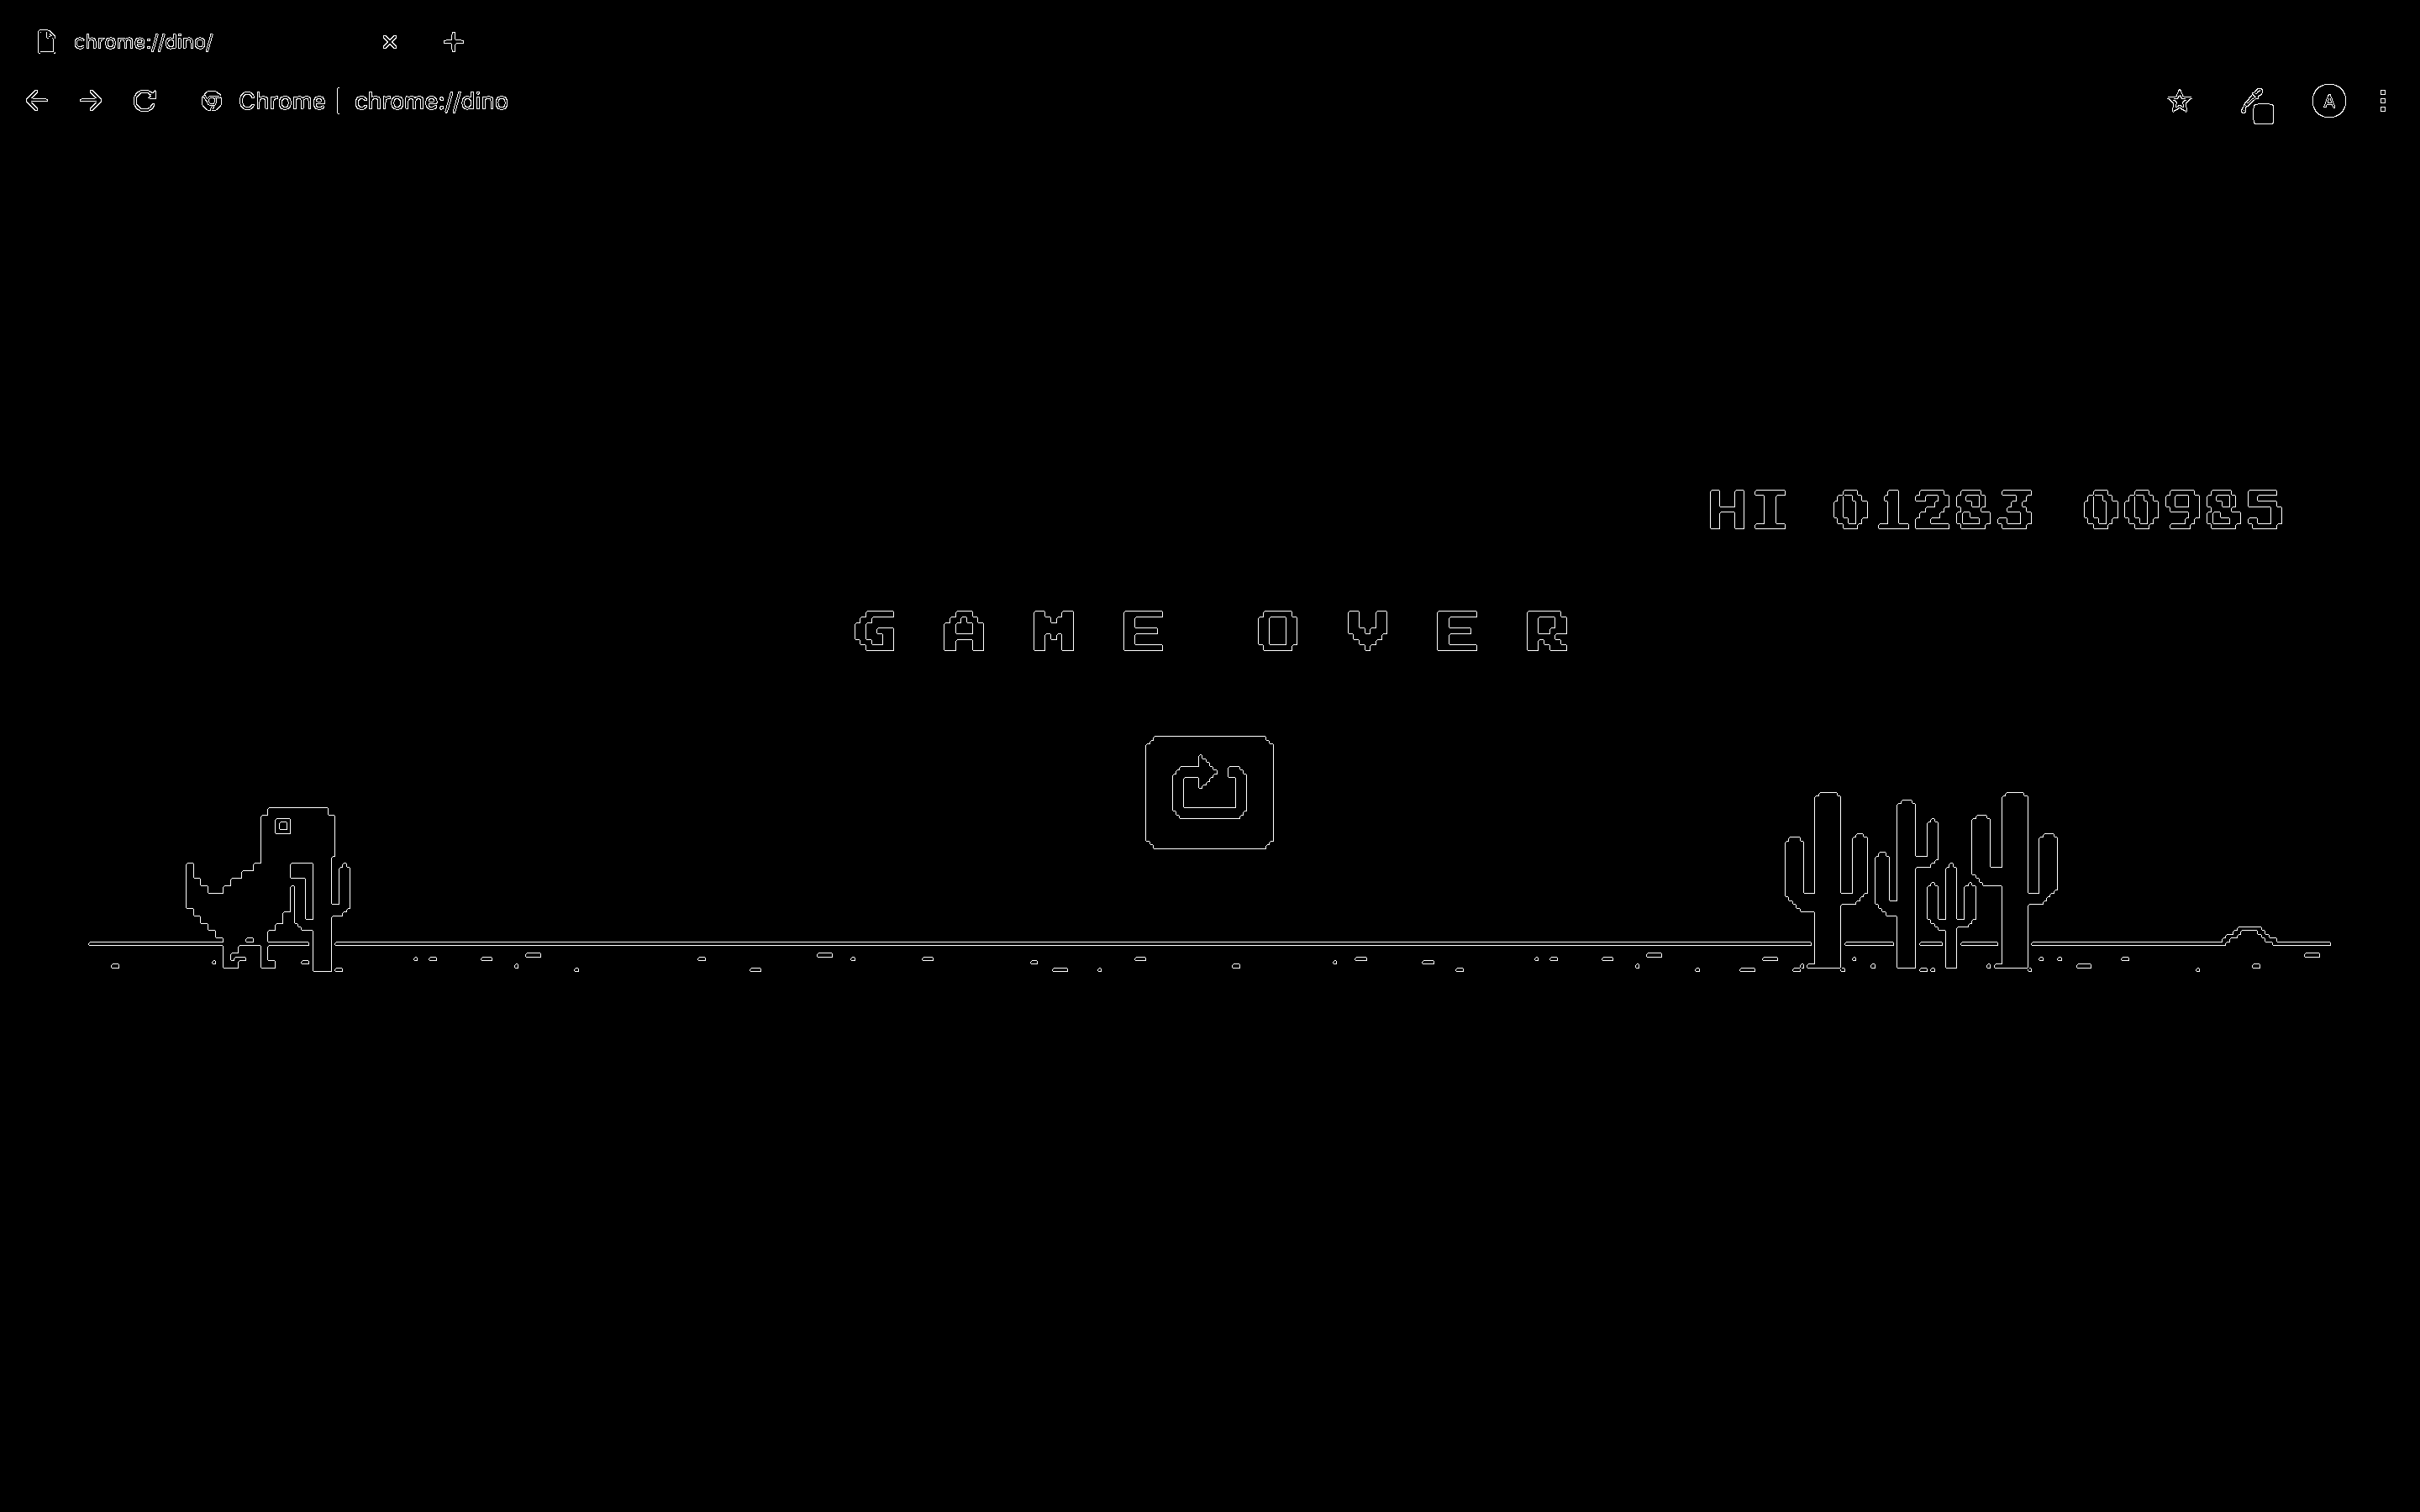Cactus: (1967, 794, 2065, 975), (1784, 796, 1871, 969), (1876, 796, 1941, 981), (294, 855, 362, 969), (1934, 869, 1983, 965)
Dino: (178, 813, 341, 969)
Game_Over: (1141, 735, 1277, 852)
